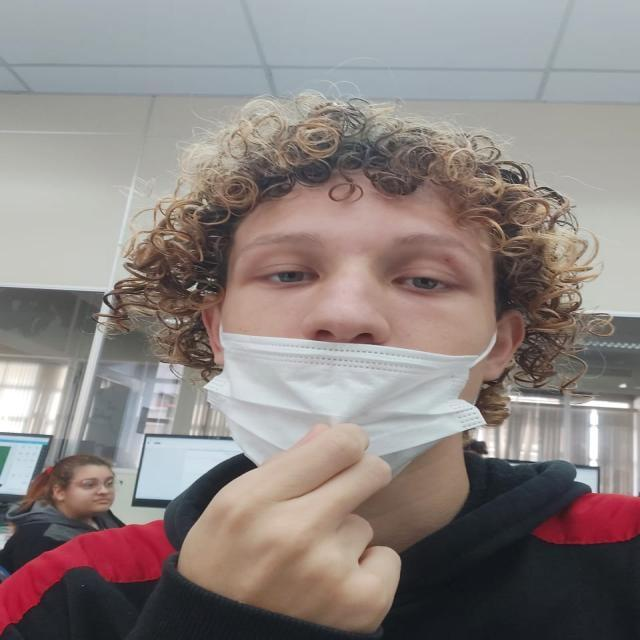hairnet: (213, 286, 489, 470)
